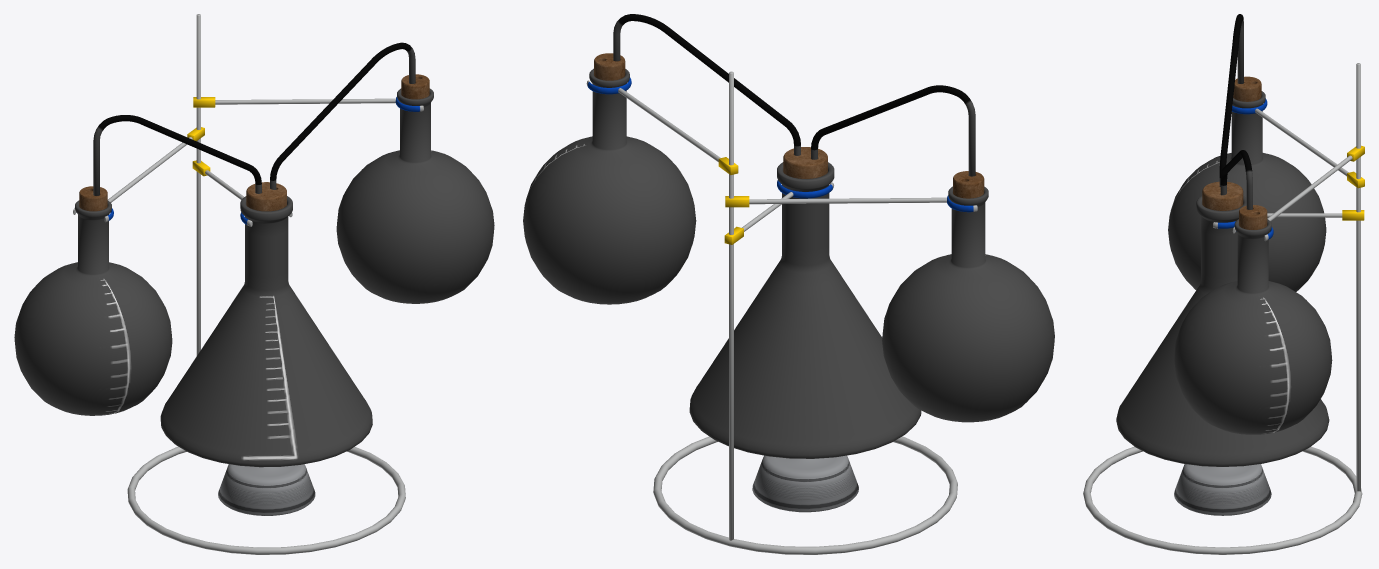
File: ChemistryMixingFlasks.fbx
3 renders of one model, left to right at view 1: azimuth 30°, elevation 25°; view 2: azimuth 150°, elevation 25°; view 3: azimuth 270°, elevation 25°, orthographic. The views are drawn at different scales.
Visible parts, largest first — view 1: Chemistry_Glass, Chemistry; view 2: Chemistry_Glass, Chemistry; view 3: Chemistry_Glass, Chemistry.
Boxes of the visible parts, x1,y1,x2,y2 form: Chemistry_Glass: (14,42,494,467); Chemistry: (73,14,429,554); Chemistry_Glass: (523,14,1054,458); Chemistry: (586,53,984,554); Chemistry_Glass: (1116,14,1332,466); Chemistry: (1083,63,1364,554).
Bounding box in the file's own units: 393 × 352 × 207.
2 materials, 2 textured.
